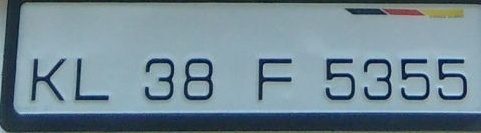character: (28, 52, 66, 102), (256, 53, 294, 102), (73, 53, 111, 101), (436, 55, 469, 102), (361, 55, 393, 102), (142, 55, 175, 100), (323, 56, 356, 100), (182, 56, 213, 102), (399, 56, 430, 100)
